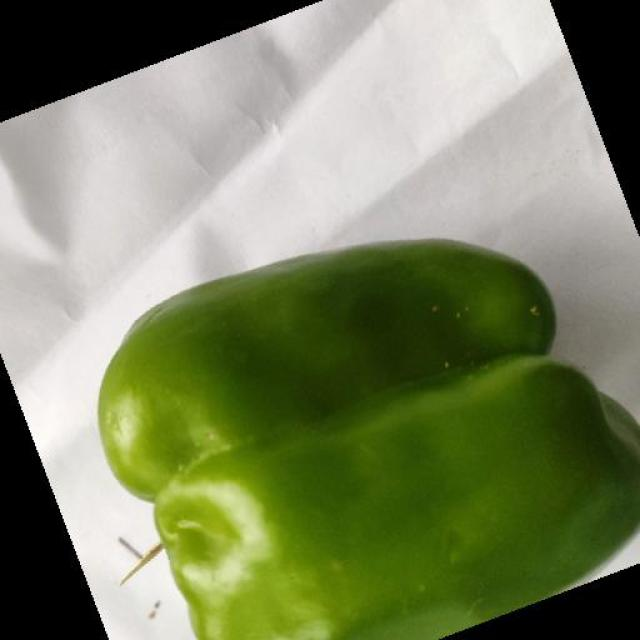Fresh_Capsicum: (63, 231, 639, 640)
